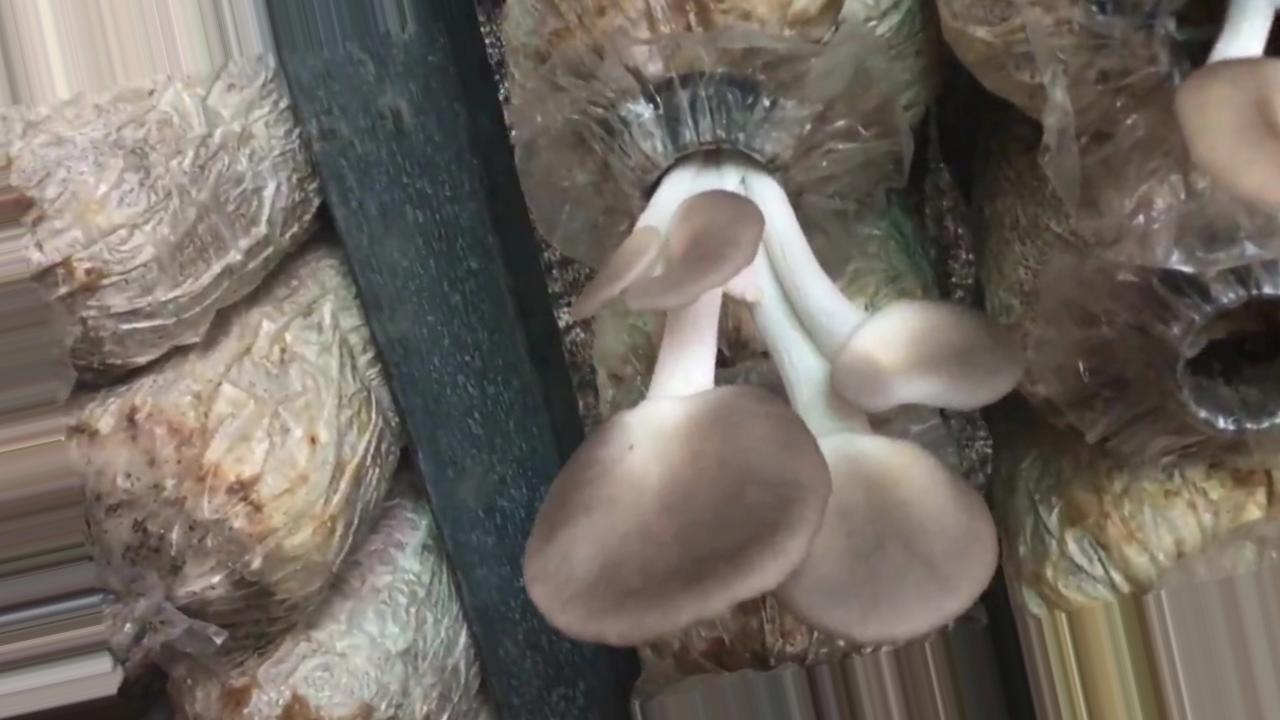nam: (527, 74, 1027, 646)
